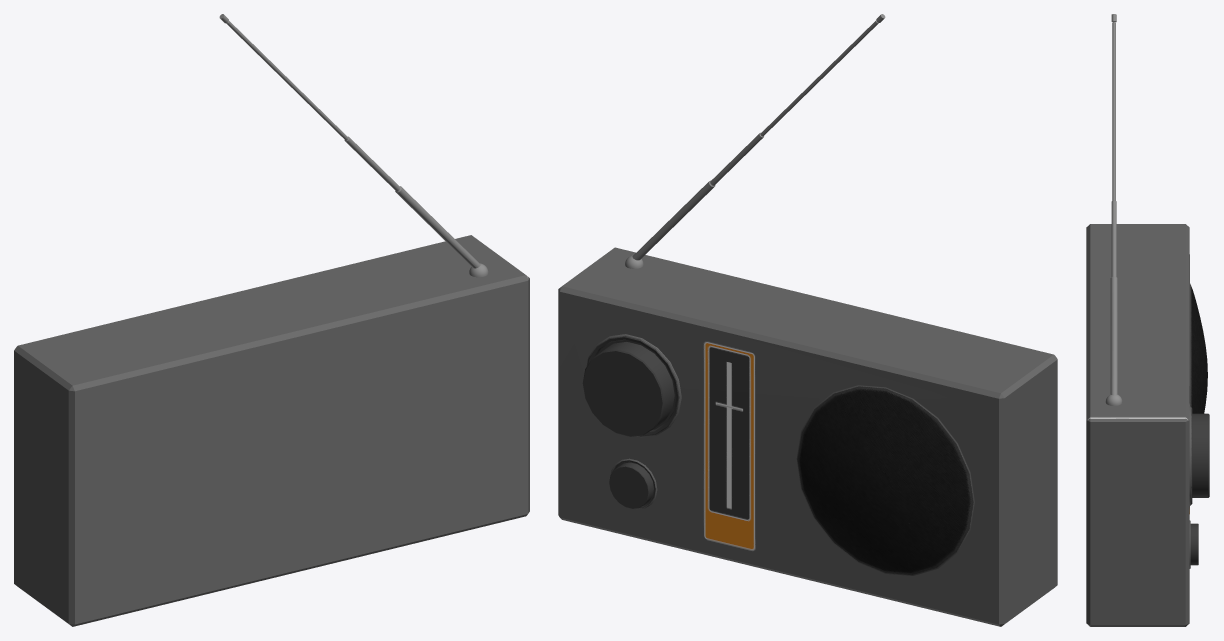
Rendered from Hospital_Radio.fbx.
The picture shows the model from 3 angles, left to right: view 1: azimuth 30°, elevation 25°; view 2: azimuth 150°, elevation 25°; view 3: azimuth 270°, elevation 25°; orthographic projection. The views are drawn at different scales.
Parts seen in each view (by area): view 1: pCube8; view 2: pCube8; view 3: pCube8.
Boxes of the visible parts, x1,y1,x2,y2 form: pCube8: [14, 14, 529, 626]; pCube8: [558, 14, 1057, 626]; pCube8: [1086, 14, 1209, 626].
Size of the model in its own units: 30 by 34.97 by 7.95.
3 materials, 1 textured.
